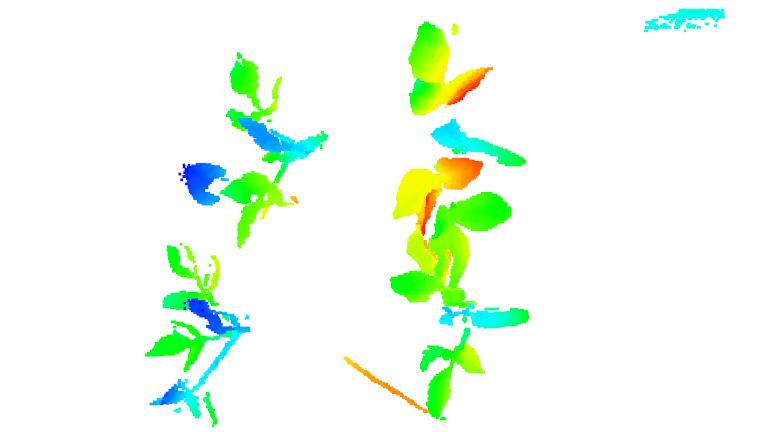mungbean: (385, 20, 537, 233), (173, 51, 333, 250), (390, 226, 532, 420), (141, 245, 259, 428)
